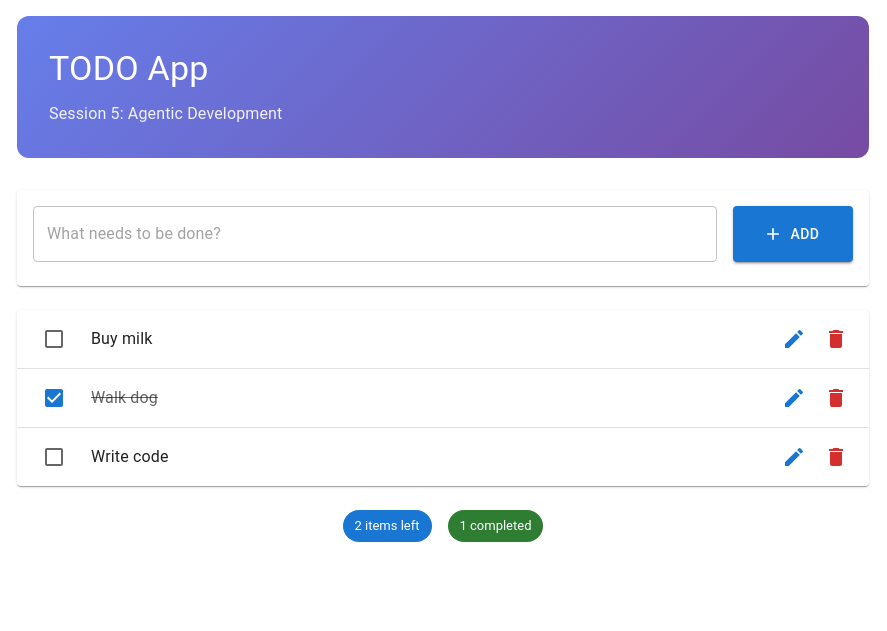
error handling › shows an error message when a mutation fails
Expected: the text "Buy milk" is shown, [91,329,152,348]
Click the button named "delete buy milk": [836, 339] box [819,322,853,356]
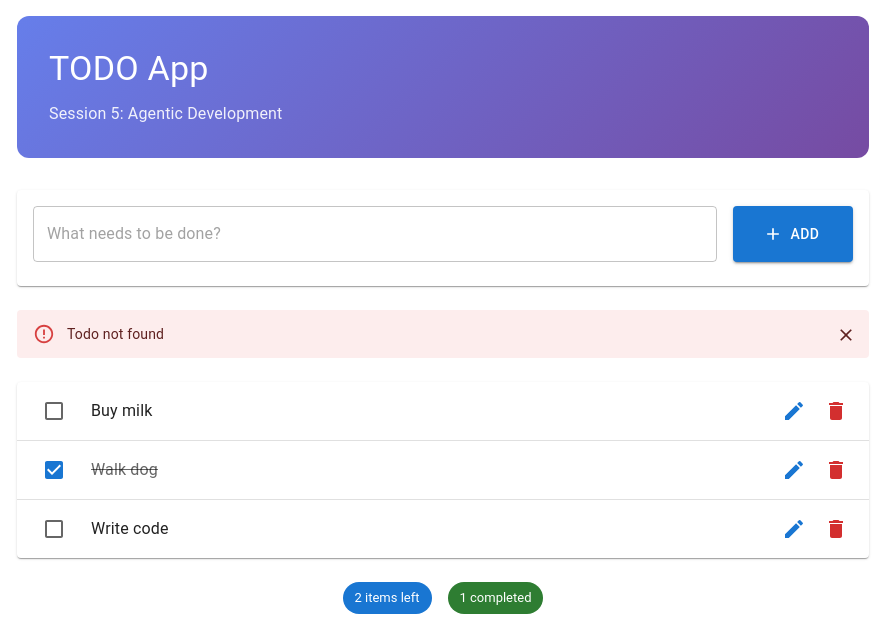
Expected: the message reads "Todo not found", [67,326,164,342]
